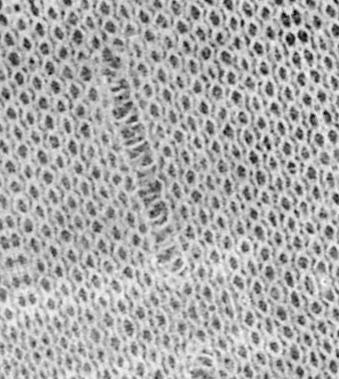slub: (110, 70, 182, 287)
